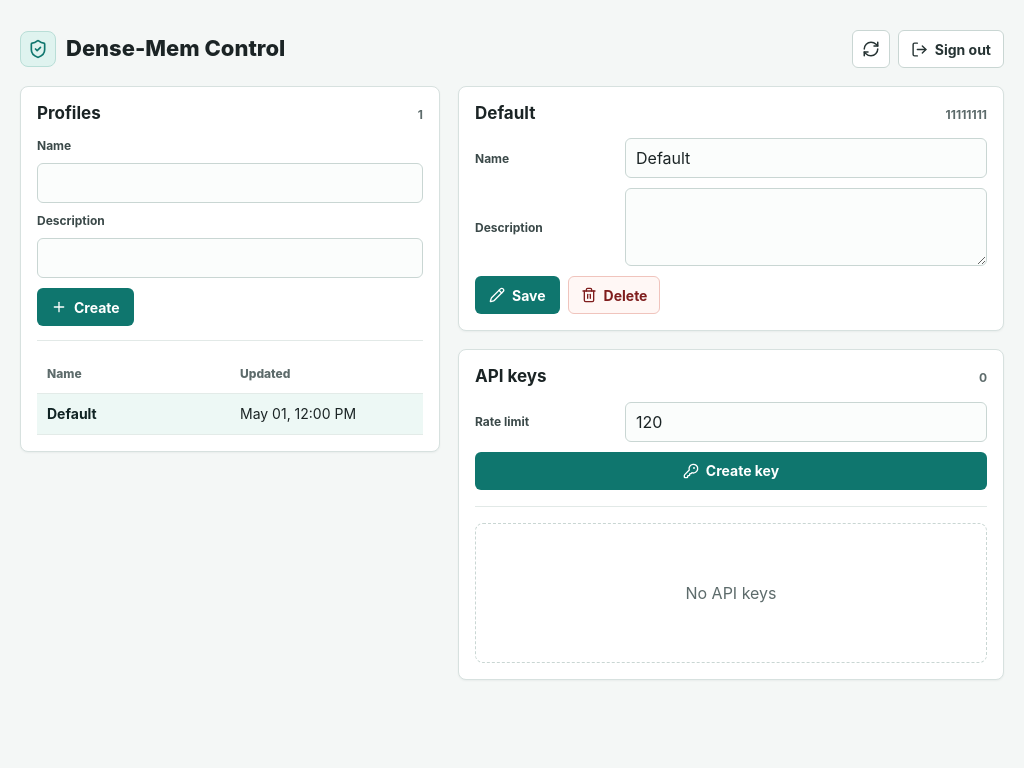
Test: App › shows profile validation states
Expected: the button "Default" is shown, [47,405,97,423]
Type "ab" into the field labelled "Name" below "Profiles". click: point(230, 183)
box: [37,163,423,203]
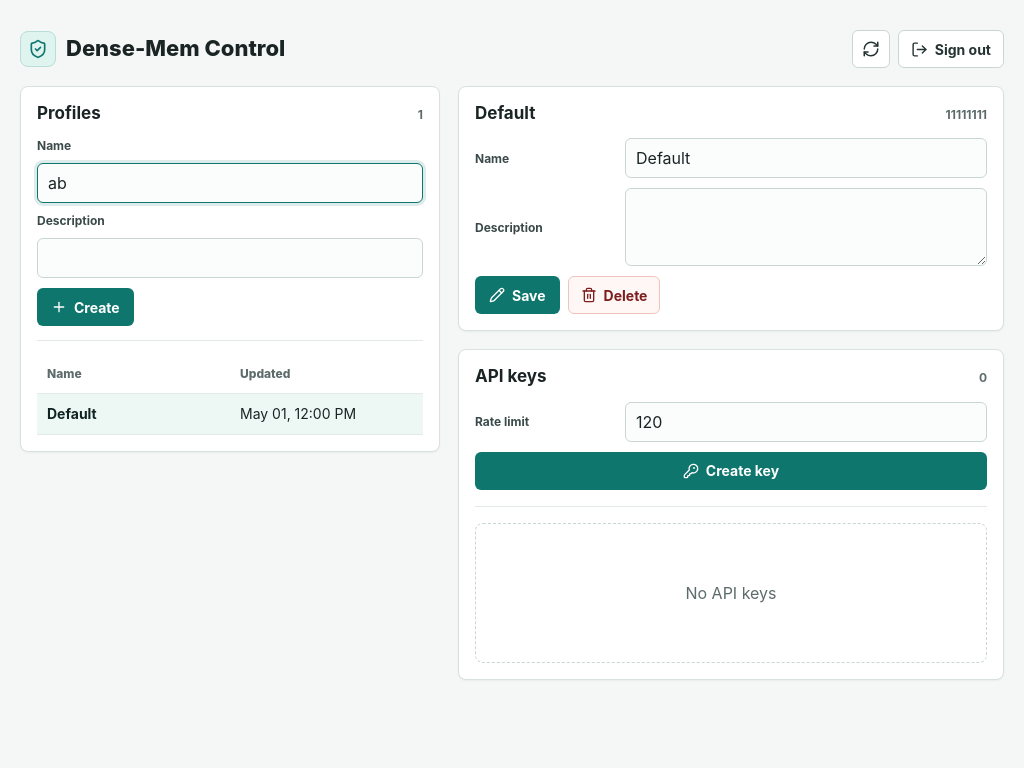
Click the button "Create". click: point(85, 307)
box: [37,288,134,326]
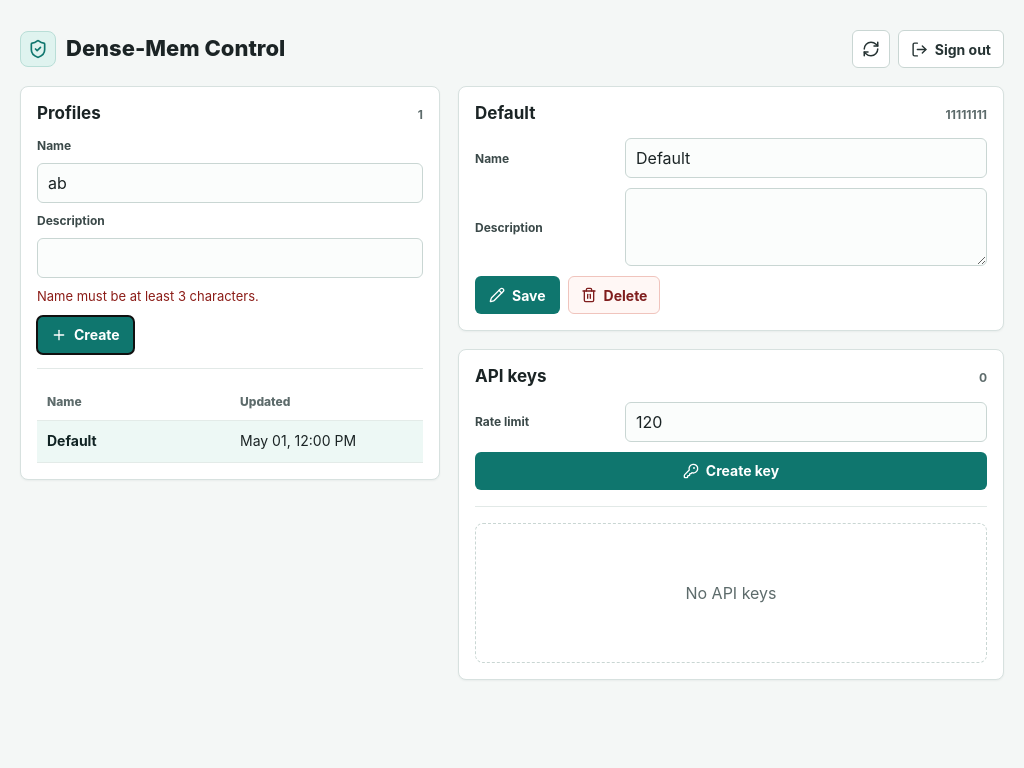
Result: the message reads "Name must be at least 3 characters." at [37,288,259,304]
